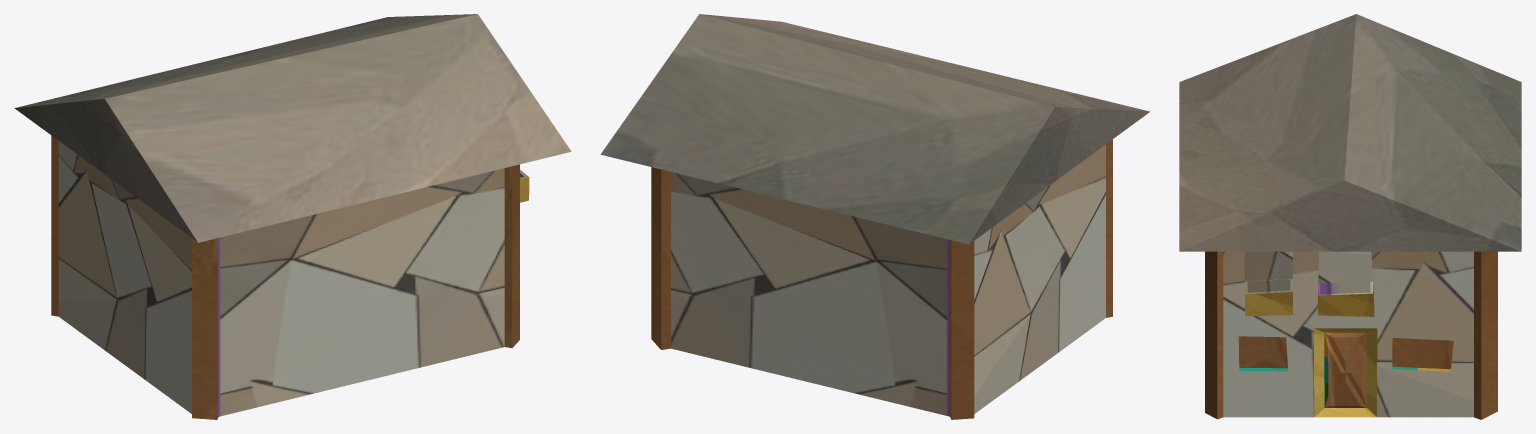
Rendered from house_4.glb.
3 views of the same model, side by side, from view 1: azimuth 30°, elevation 25°; view 2: azimuth 150°, elevation 25°; view 3: azimuth 270°, elevation 25° (orthographic). The views are drawn at different scales.
Visible parts, largest first — view 1: Cube; view 2: Cube; view 3: Cube.
Boxes of the visible parts, x1,y1,x2,y2 form: Cube: (14,14,571,419); Cube: (600,14,1149,419); Cube: (1179,14,1521,419).
Size of what is drawn, in the model's own units: 23.38 by 16.12 by 19.95.
Materials: 1 (1 with a texture image).
